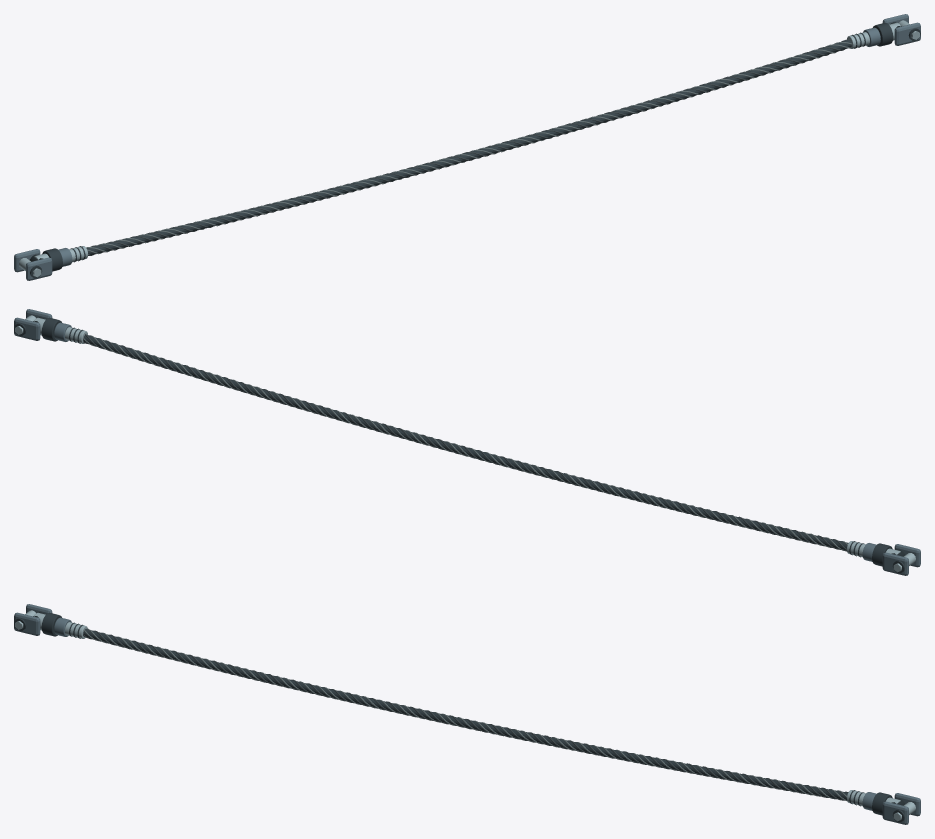
File: wsc-prop-033-zipline-cable.glb
The picture shows the model from 3 angles, top to bottom: view 1: azimuth 30°, elevation 25°; view 2: azimuth 150°, elevation 25°; view 3: azimuth 330°, elevation 25°; orthographic projection.
Visible parts, largest first — view 1: WSC-PROP-033 | Gunmetal, WSC-PROP-033 | Braided line B, WSC-PROP-033 | Braided line A, WSC-PROP-033 | Slate steel, WSC-PROP-033 | Worn edge; view 2: WSC-PROP-033 | Gunmetal, WSC-PROP-033 | Braided line B, WSC-PROP-033 | Braided line A, WSC-PROP-033 | Slate steel, WSC-PROP-033 | Worn edge; view 3: WSC-PROP-033 | Gunmetal, WSC-PROP-033 | Braided line B, WSC-PROP-033 | Braided line A, WSC-PROP-033 | Slate steel, WSC-PROP-033 | Worn edge.
Boxes of the visible parts, x1,y1,x2,y2 form: WSC-PROP-033 | Gunmetal: (30, 22, 920, 278); WSC-PROP-033 | Braided line B: (86, 42, 851, 254); WSC-PROP-033 | Braided line A: (88, 39, 850, 255); WSC-PROP-033 | Slate steel: (14, 14, 920, 280); WSC-PROP-033 | Worn edge: (19, 20, 919, 277); WSC-PROP-033 | Gunmetal: (14, 317, 904, 573); WSC-PROP-033 | Braided line B: (83, 335, 847, 551); WSC-PROP-033 | Braided line A: (83, 334, 846, 550); WSC-PROP-033 | Slate steel: (14, 309, 920, 575); WSC-PROP-033 | Worn edge: (15, 315, 915, 572); WSC-PROP-033 | Gunmetal: (14, 612, 904, 822); WSC-PROP-033 | Braided line B: (84, 628, 846, 800); WSC-PROP-033 | Braided line A: (83, 630, 848, 800); WSC-PROP-033 | Slate steel: (14, 604, 920, 824); WSC-PROP-033 | Worn edge: (15, 610, 915, 821).
Size of the model in its own units: 9.8 by 0.4508 by 0.3638.
